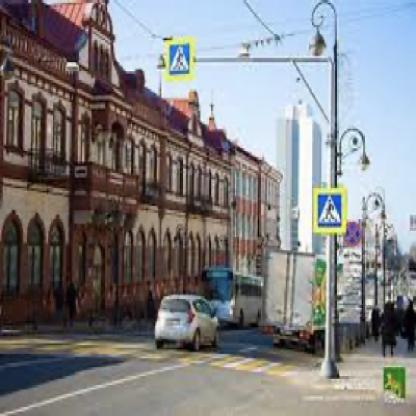crosswalk: (316, 192, 341, 226), (167, 43, 188, 72)
